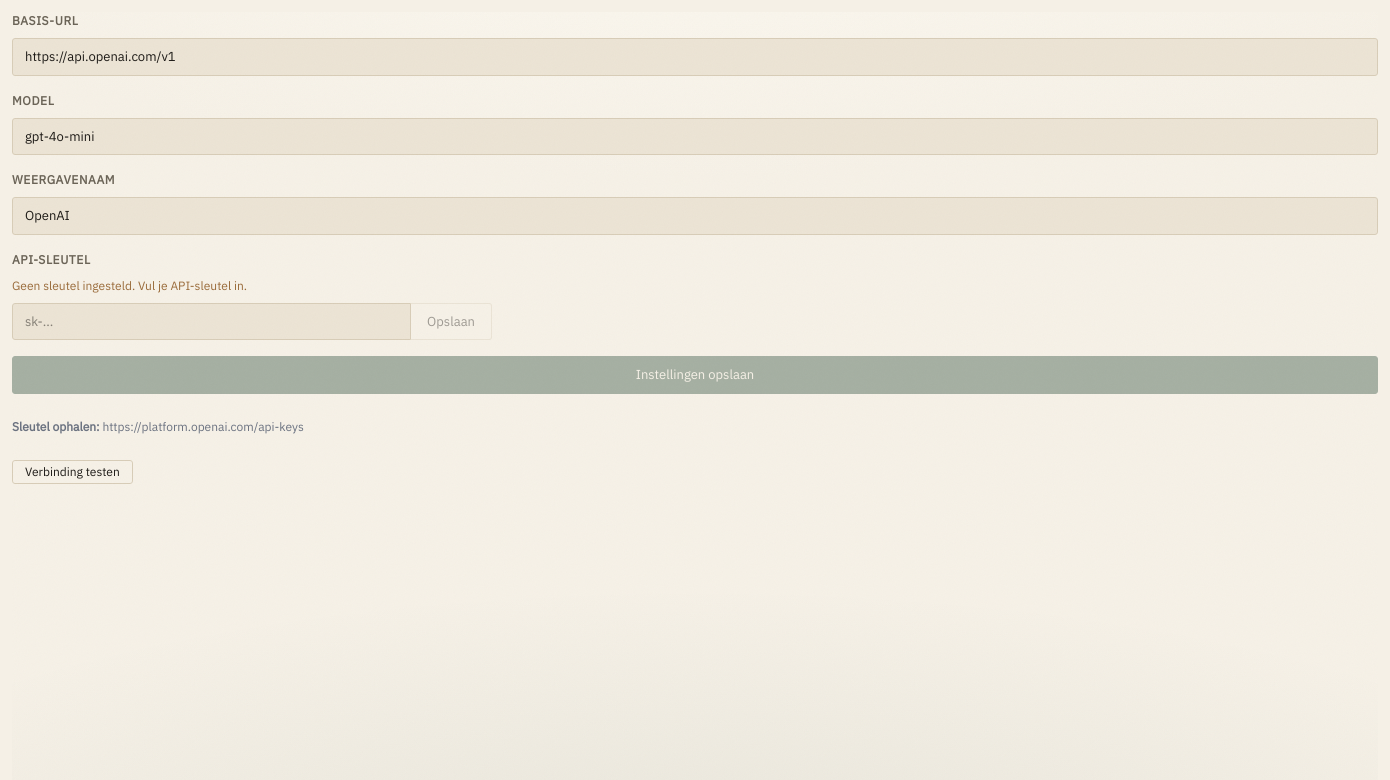
Test case: OpenAICompatibleCard › starts with Save disabled on a clean load, enabled once a field is edited
Expected: the button with test id "save-custom-openai" is disabled, x1=12 y1=356 x2=1378 y2=394
Replace the text in the field with test id "custom-openai-model" with "gpt-4o": (695, 136) x1=12 y1=118 x2=1378 y2=155
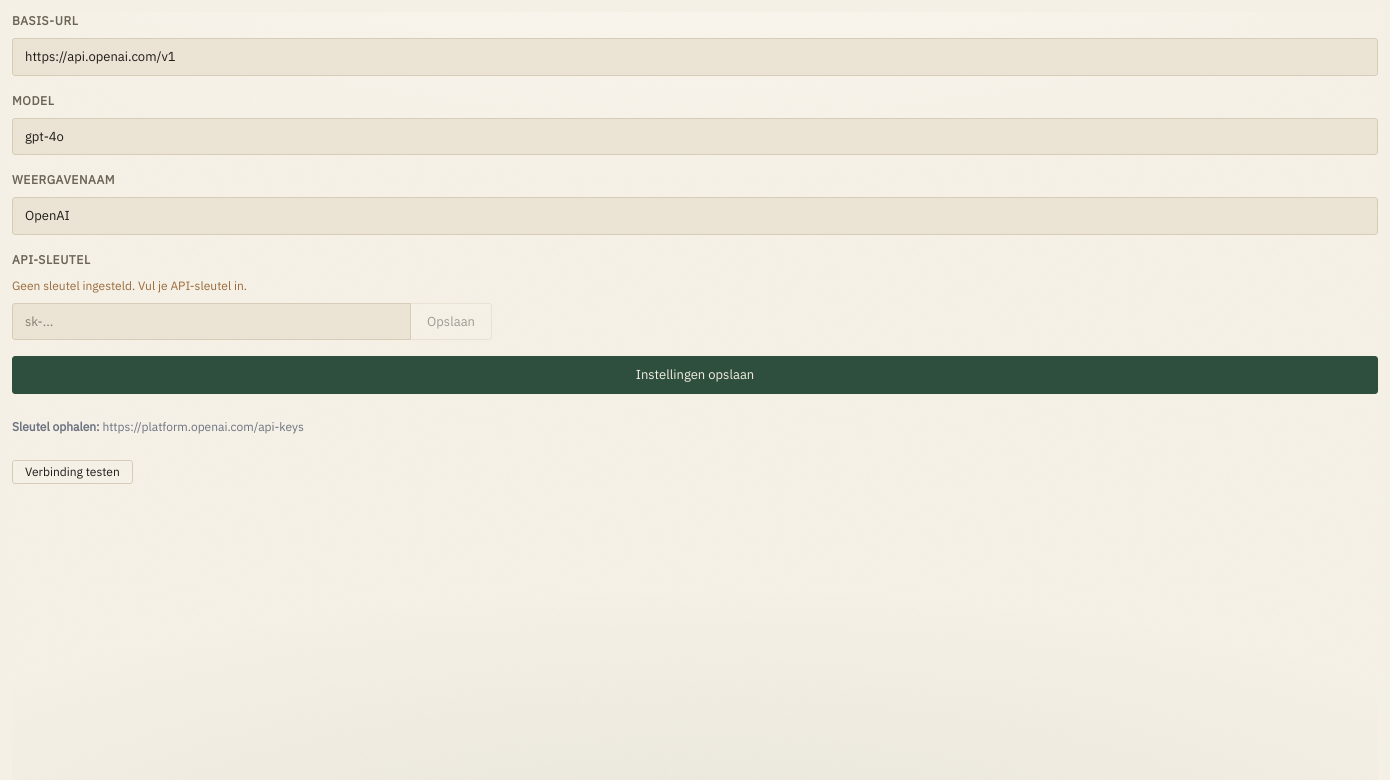
Expected: the button with test id "save-custom-openai" is enabled, x1=12 y1=356 x2=1378 y2=394
